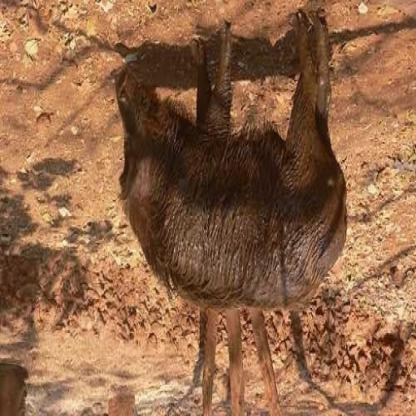boar: (99, 8, 367, 334)
